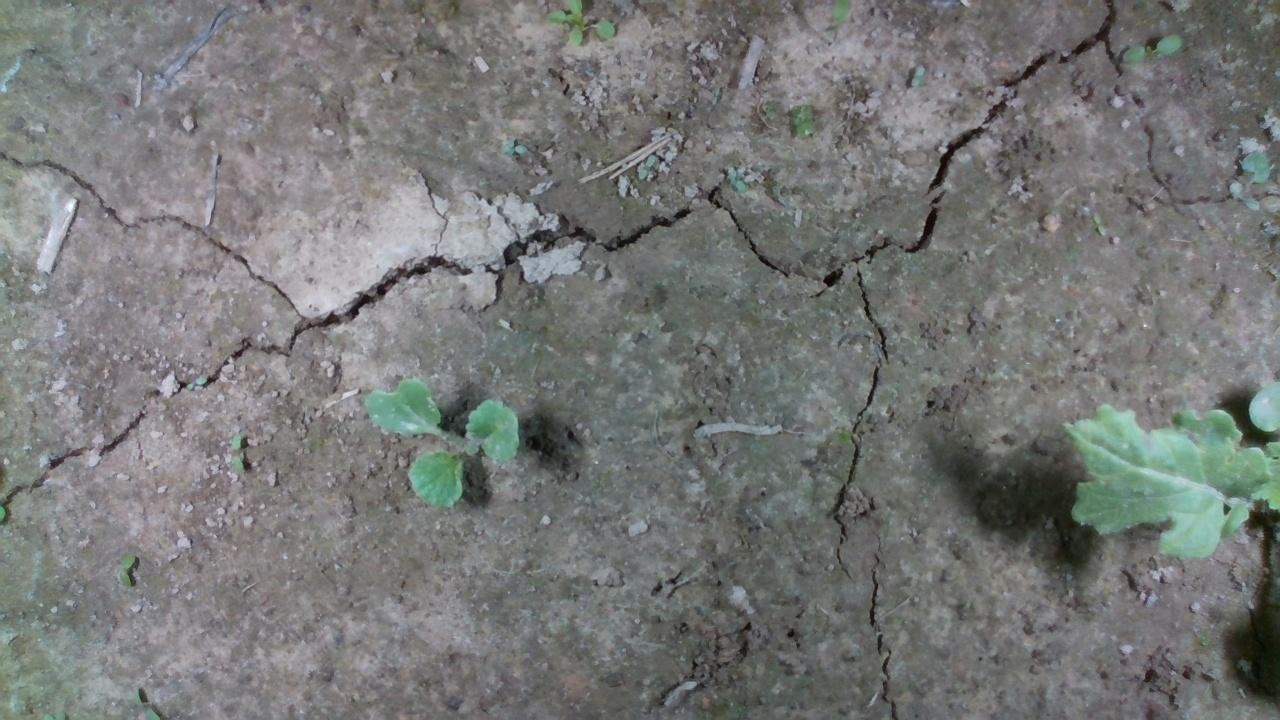weed: (1117, 28, 1171, 65), (496, 133, 539, 161), (221, 431, 246, 470)
